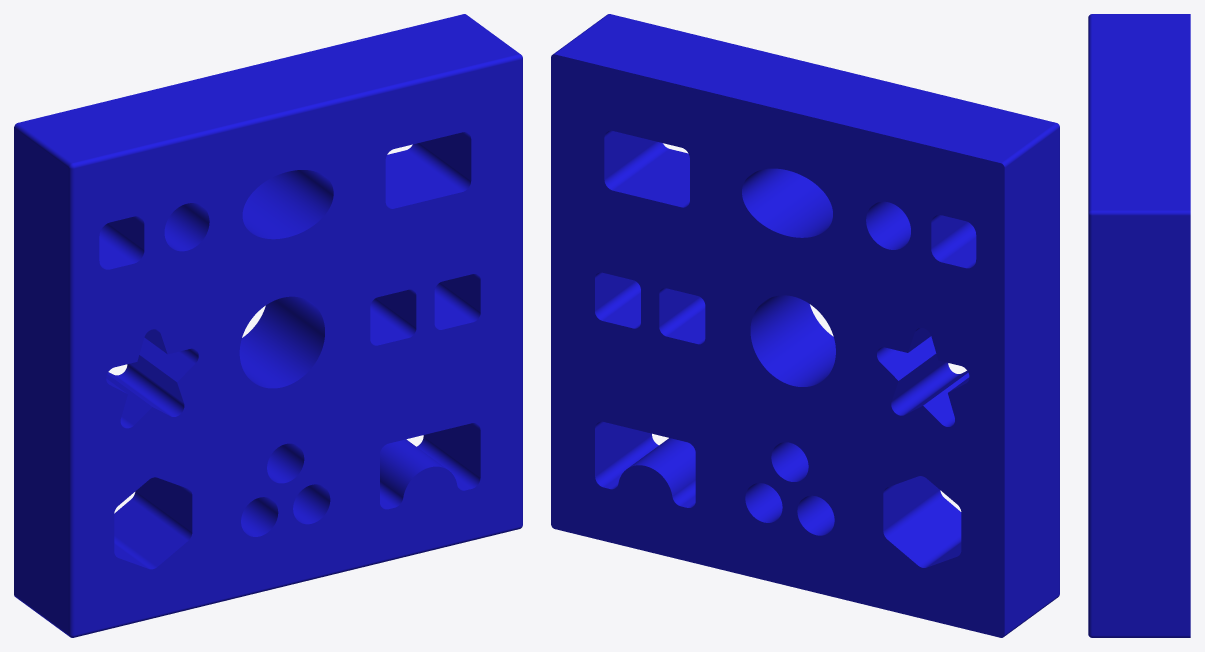
The model's file is fmb_simple_container_mid.obj.
3 renders of one model, left to right at view 1: azimuth 30°, elevation 25°; view 2: azimuth 150°, elevation 25°; view 3: azimuth 270°, elevation 25°, orthographic. The views are drawn at different scales.
Parts seen in each view (by area): view 1: mesh1, mesh83, mesh80, mesh73, mesh0, mesh84, mesh78, mesh33, mesh61, mesh11, mesh77, mesh3 (+19 smaller); view 2: mesh88, mesh83, mesh80, mesh73, mesh0, mesh33, mesh61, mesh11, mesh77, mesh3, mesh63, mesh42 (+15 smaller); view 3: mesh89, mesh80, mesh92, mesh78, mesh90, mesh93.
Boxes of the visible parts, left/top/right/bottom form: mesh1: left=75, top=60, right=520, bottom=634; mesh83: left=14, top=128, right=68, bottom=633; mesh80: left=18, top=14, right=517, bottom=162; mesh73: left=239, top=296, right=324, bottom=388; mesh0: left=242, top=170, right=333, bottom=239; mesh84: left=68, top=168, right=74, bottom=635; mesh78: left=73, top=54, right=520, bottom=168; mesh33: left=385, top=150, right=461, bottom=208; mesh61: left=114, top=499, right=187, bottom=566; mesh11: left=380, top=439, right=446, bottom=497; mesh77: left=164, top=203, right=209, bottom=251; mesh3: left=423, top=423, right=480, bottom=477; mesh88: left=551, top=54, right=1004, bottom=637; mesh83: left=1004, top=128, right=1059, bottom=634; mesh80: left=555, top=14, right=1054, bottom=162; mesh73: left=750, top=295, right=835, bottom=386; mesh0: left=742, top=168, right=832, bottom=237; mesh33: left=613, top=149, right=689, bottom=206; mesh61: left=888, top=498, right=961, bottom=565; mesh11: left=629, top=438, right=695, bottom=496; mesh77: left=866, top=201, right=910, bottom=249; mesh3: left=595, top=422, right=651, bottom=475; mesh63: left=883, top=476, right=939, bottom=530; mesh42: left=891, top=362, right=960, bottom=415; mesh89: left=1092, top=215, right=1190, bottom=635; mesh80: left=1092, top=14, right=1190, bottom=210; mesh92: left=1088, top=214, right=1092, bottom=635; mesh78: left=1088, top=14, right=1092, bottom=212; mesh90: left=1092, top=210, right=1190, bottom=215; mesh93: left=1092, top=635, right=1190, bottom=637.
Bounding box in the file's own units: 0.23 × 0.23 × 0.05.
